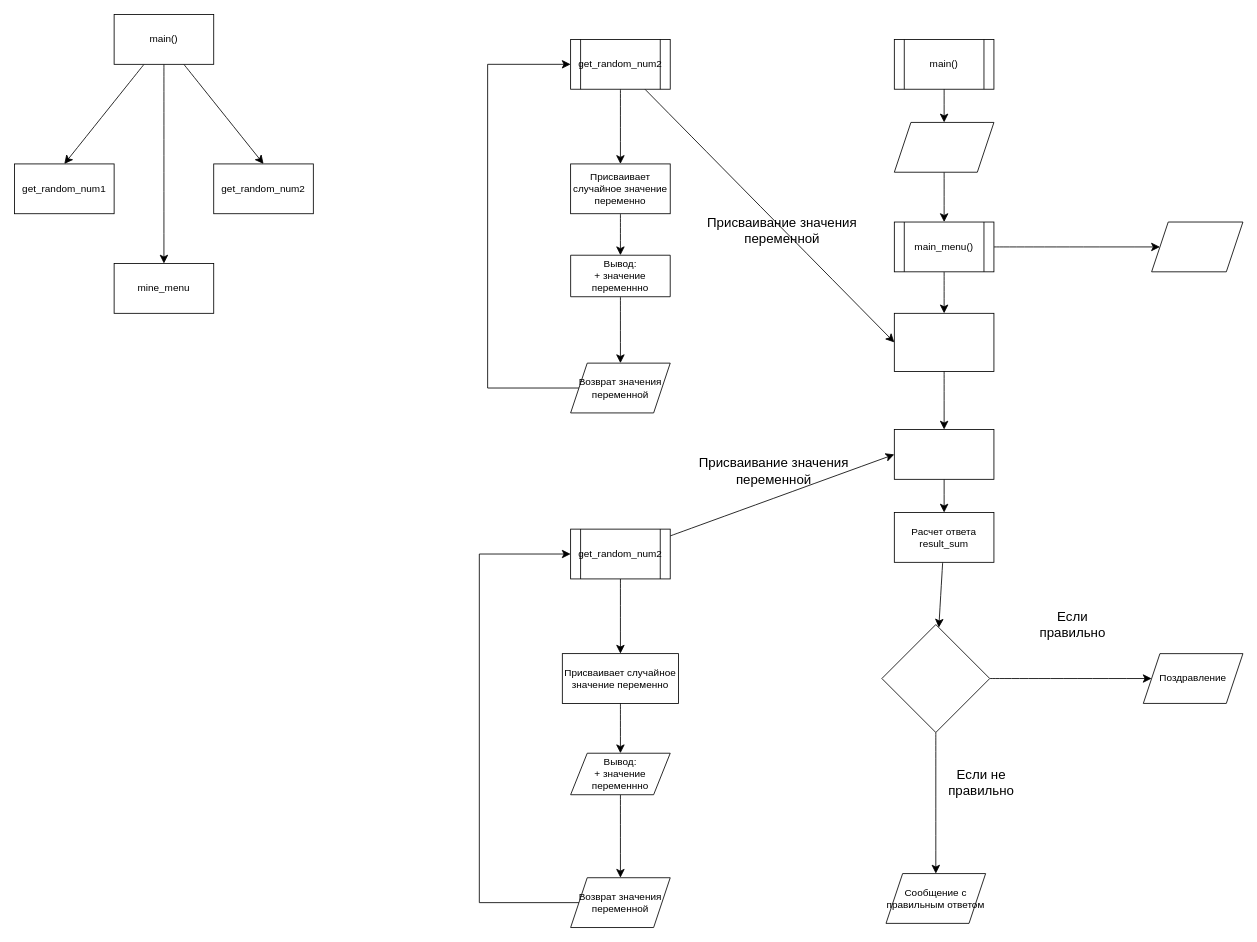
Some shapes in this 1257 by 942 pixel diagram are drawn without their labels. Each missing label, with the centre of its shape:
"import random" goes at pixel 943 147.
"random_num1" goes at pixel 943 341.
"random_num2" goes at pixel 943 454.
"Вывод условий теста" goes at pixel 1197 246.
"Проверка на правильность решения" goes at pixel 935 678.
